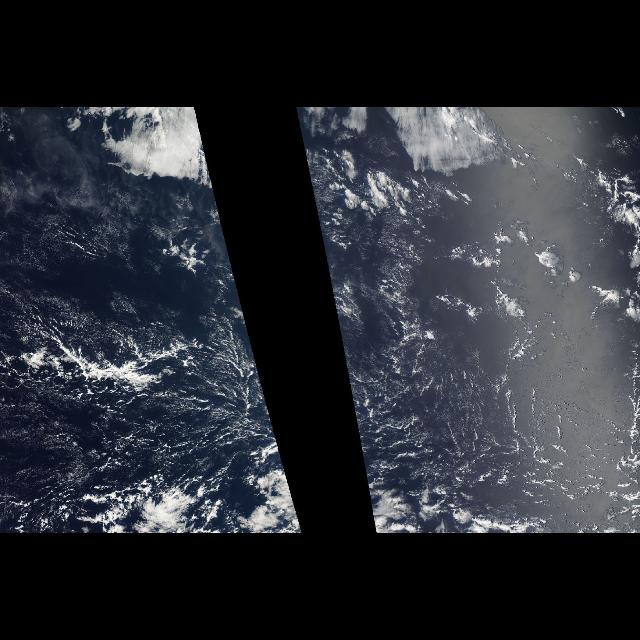Sugar: (310, 177, 610, 508), (8, 177, 296, 508)
